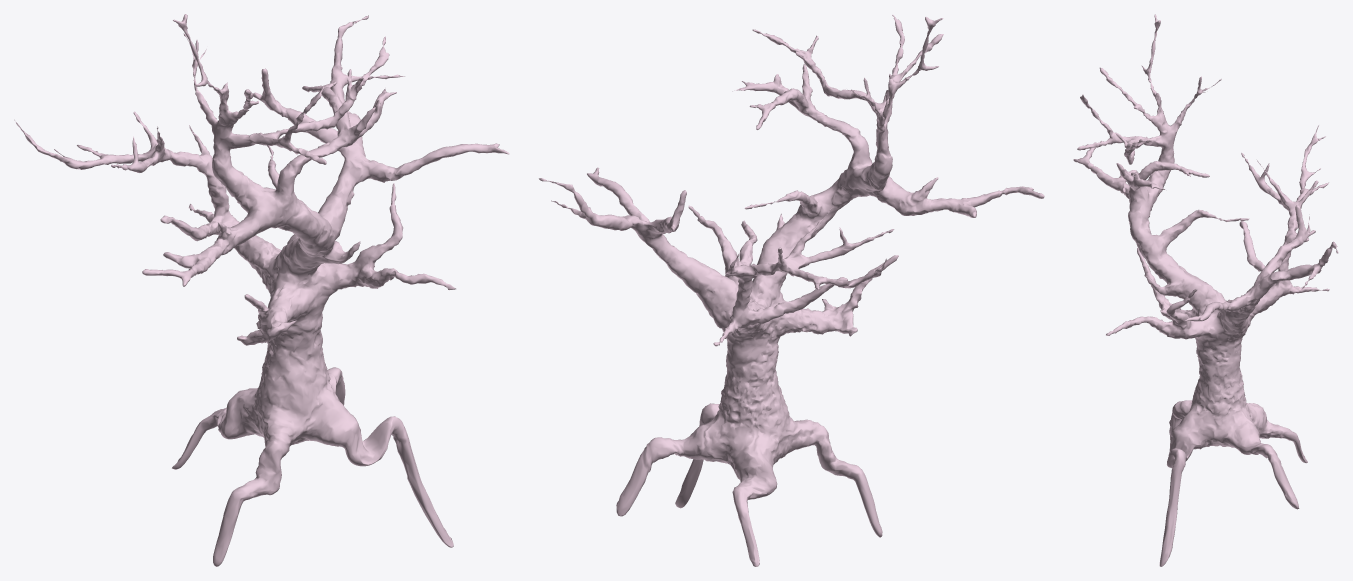
Rendered from treeEdit.glb.
3 views of the same model, side by side, from view 1: azimuth 30°, elevation 25°; view 2: azimuth 150°, elevation 25°; view 3: azimuth 270°, elevation 25° (orthographic). The views are drawn at different scales.
Visible parts, largest first — view 1: CT_TREE4; view 2: CT_TREE4; view 3: CT_TREE4.
Boxes of the visible parts, x1,y1,x2,y2 form: CT_TREE4: [14, 14, 509, 566]; CT_TREE4: [539, 14, 1044, 566]; CT_TREE4: [1073, 14, 1338, 566].
Size of the model in its own units: 6.79 by 9.09 by 4.86.
